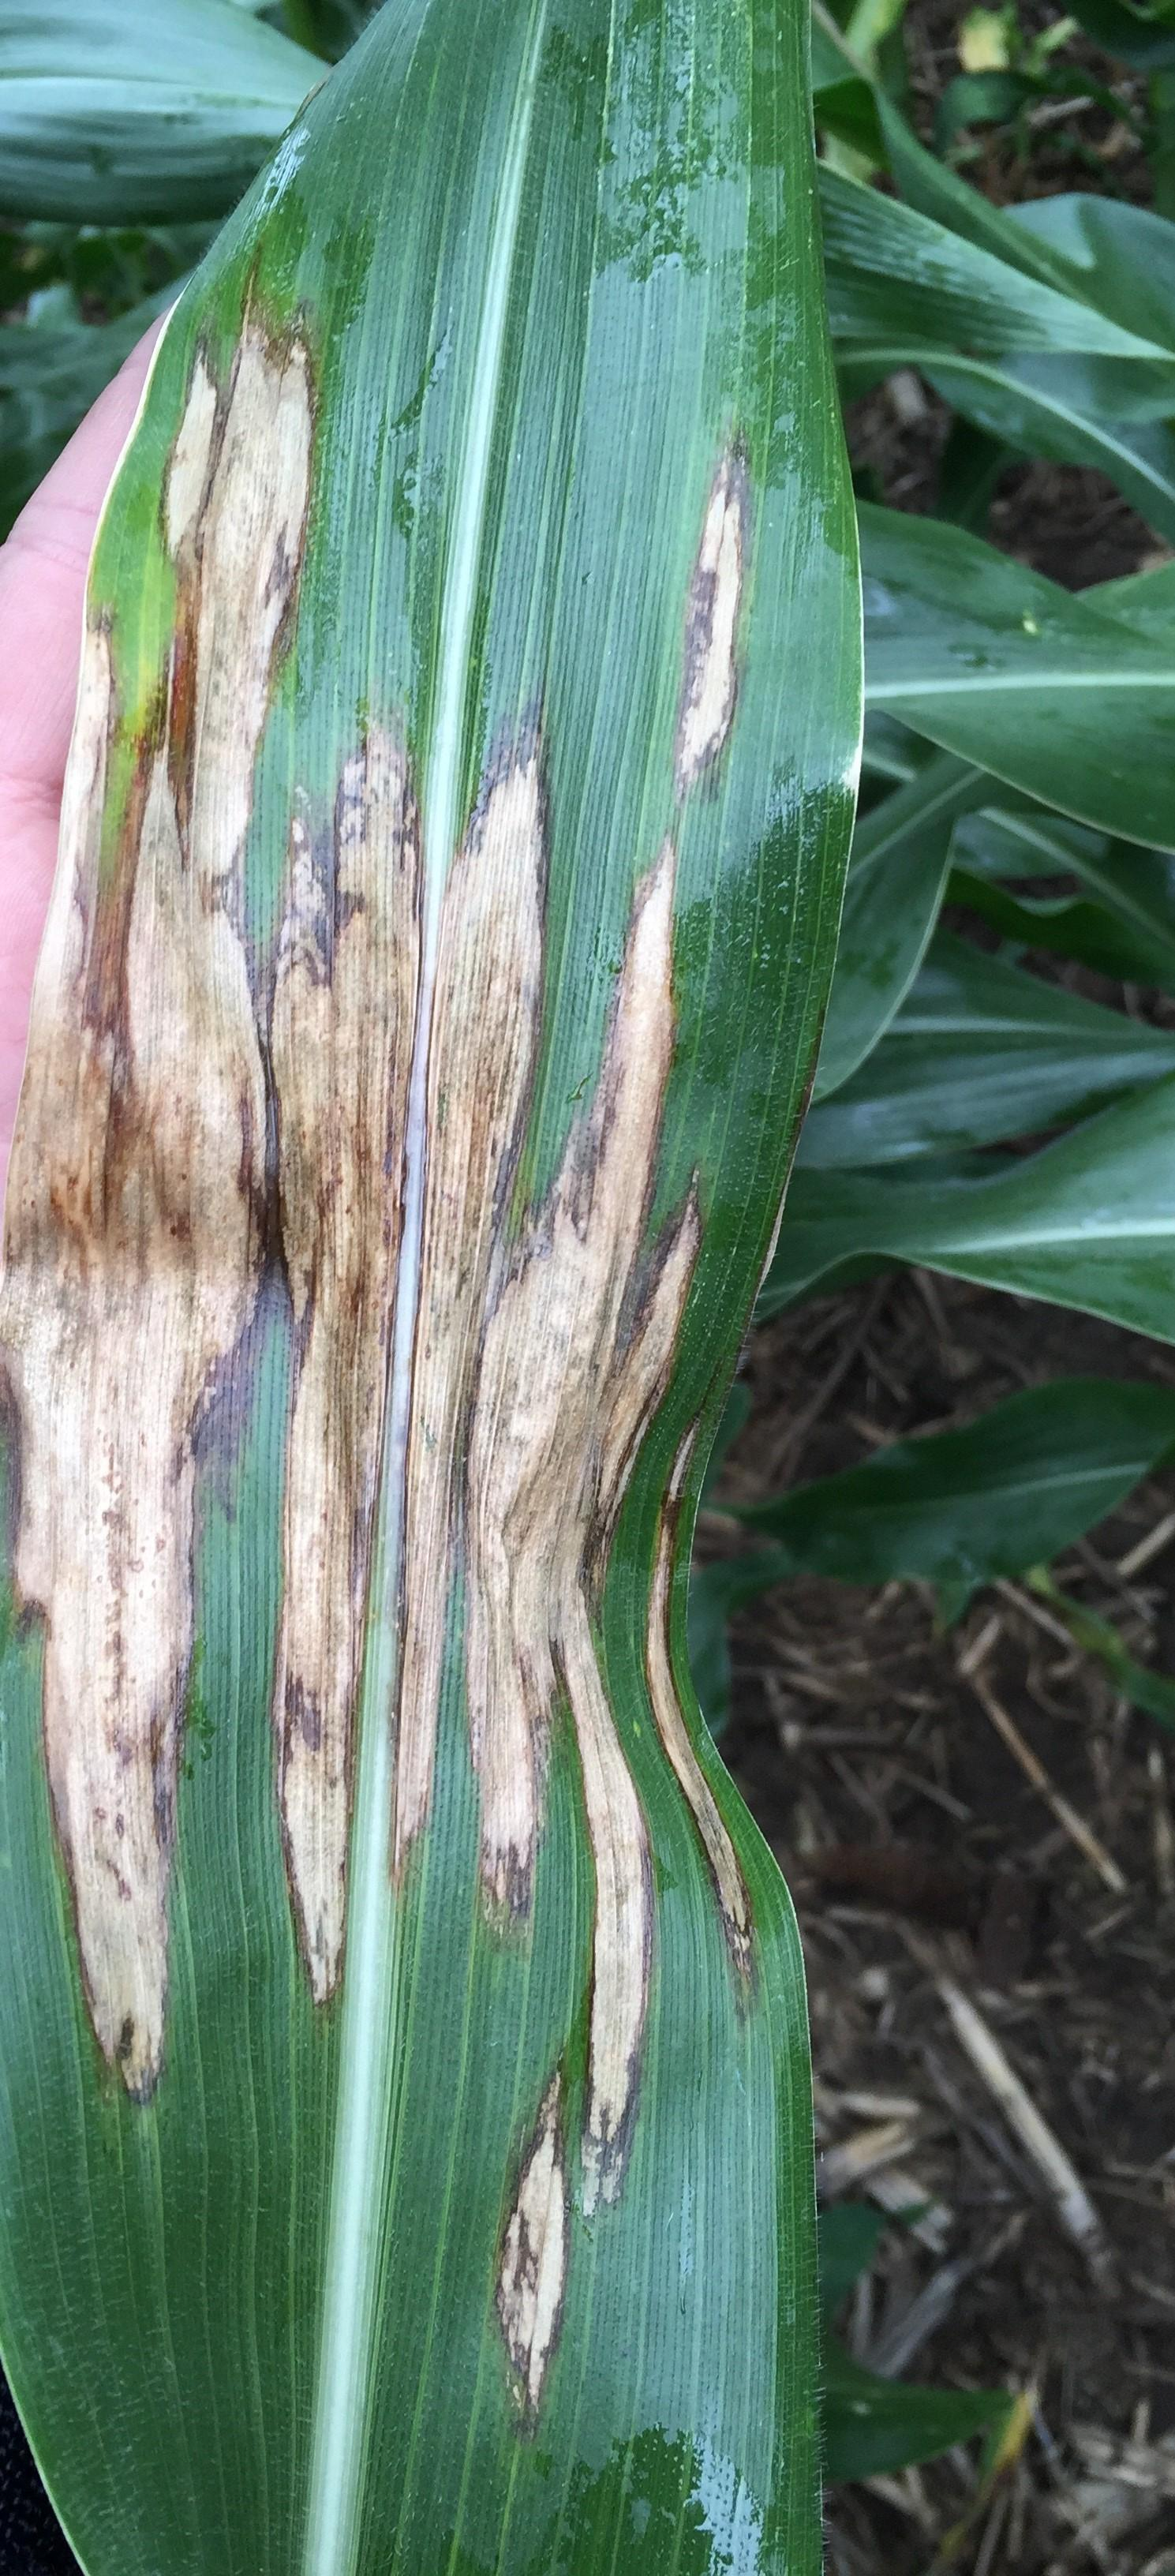Corn_Blight: (64, 237, 782, 2078), (470, 2131, 644, 2387)
